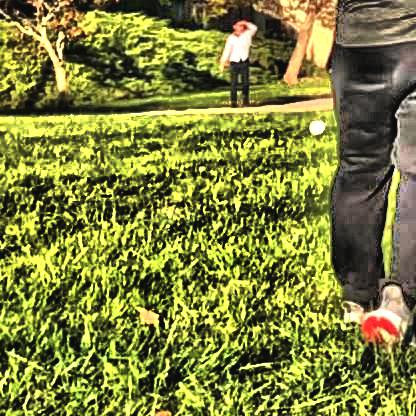golfball: (305, 116, 322, 133)
